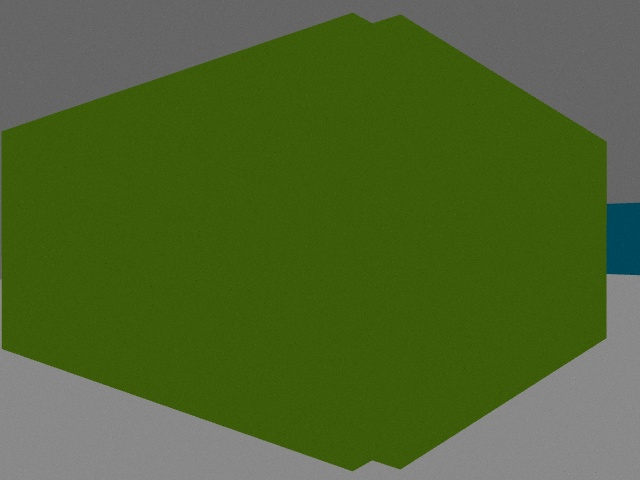blue_drop_zone: (607, 203, 640, 275)
green_drop_zone: (0, 13, 607, 471)
